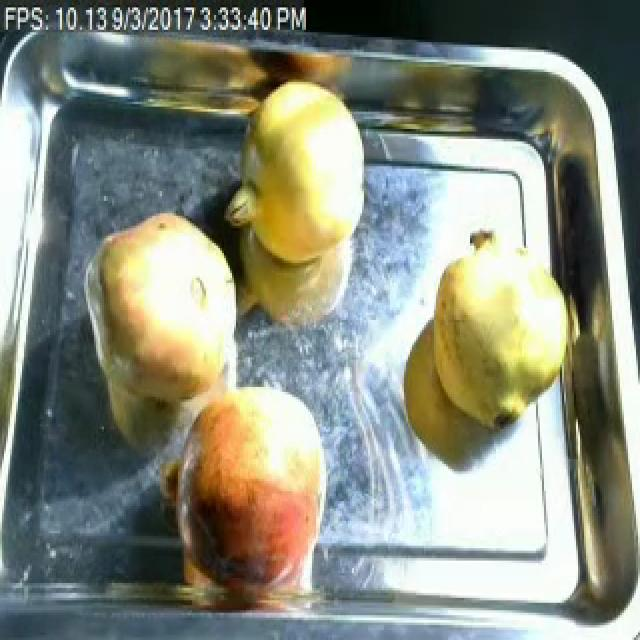fruit: (154, 367, 340, 603), (76, 198, 244, 422), (424, 231, 580, 439), (226, 72, 372, 278)
